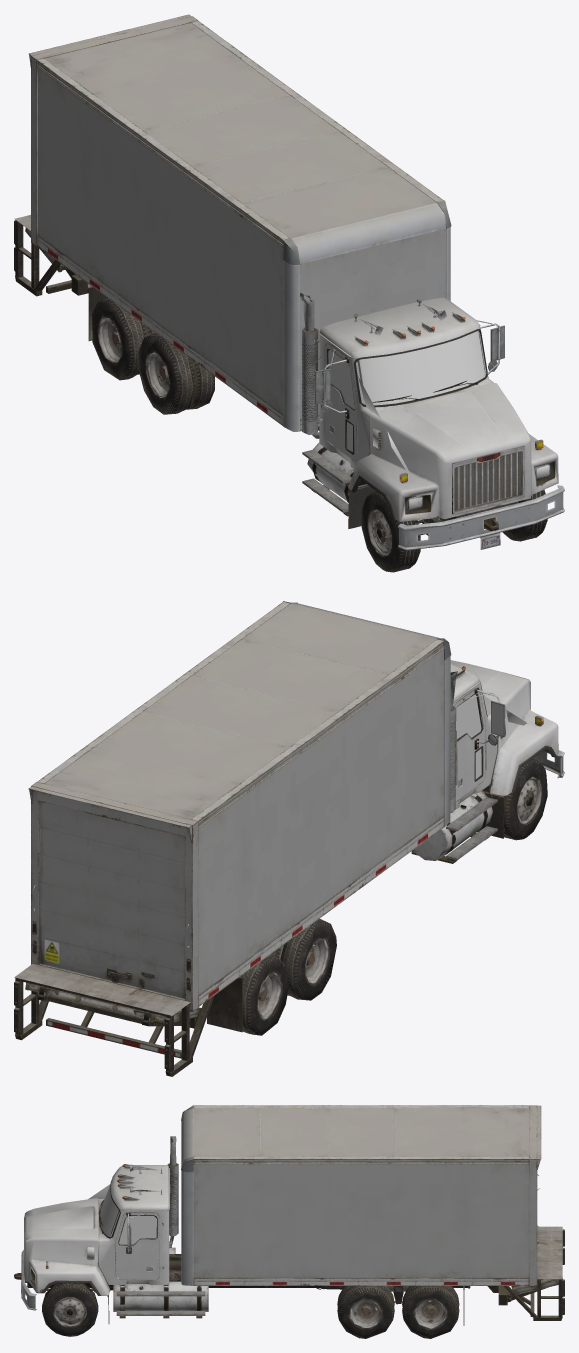
File: t_boxtruck.glb
3 views of the same model, one above another, from view 1: azimuth 30°, elevation 25°; view 2: azimuth 150°, elevation 25°; view 3: azimuth 270°, elevation 25° (orthographic). The views are drawn at different scales.
Parts seen in each view (by area): view 1: Object_6, Object_5, Object_3, Object_2, Object_4; view 2: Object_6, Object_5, Object_3, Object_2, Object_4; view 3: Object_6, Object_5, Object_3, Object_2, Object_4.
Part boxes in pixels (bbox=[...]): Object_6: bbox=[14, 14, 451, 431]; Object_5: bbox=[315, 297, 564, 550]; Object_3: bbox=[91, 298, 547, 572]; Object_2: bbox=[300, 292, 524, 535]; Object_4: bbox=[328, 331, 549, 509]; Object_6: bbox=[14, 601, 451, 1076]; Object_5: bbox=[450, 660, 564, 813]; Object_3: bbox=[242, 759, 547, 1035]; Object_2: bbox=[411, 668, 504, 863]; Object_4: bbox=[456, 694, 527, 779]; Object_6: bbox=[181, 1105, 564, 1325]; Object_5: bbox=[14, 1164, 170, 1310]; Object_3: bbox=[42, 1283, 459, 1338]; Object_2: bbox=[24, 1136, 470, 1323]; Object_4: bbox=[88, 1184, 156, 1271].
Bounding box in the file's own units: 295 × 397 × 1093.
6 materials, 5 textured.
